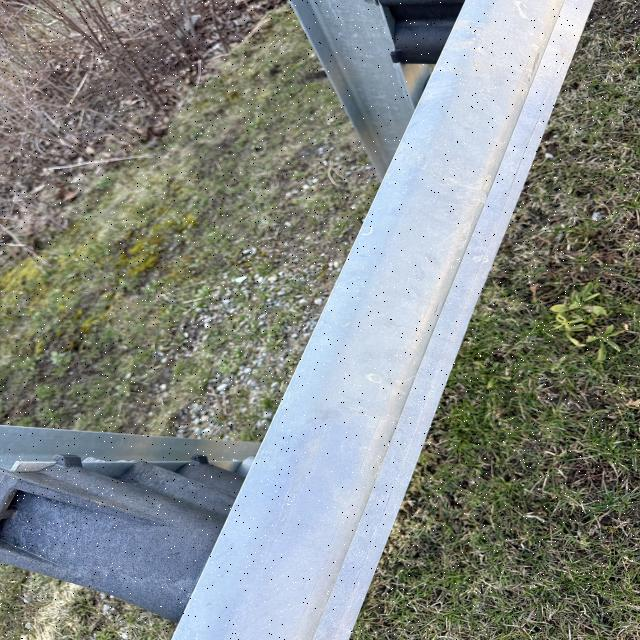Guard rail: (23, 6, 598, 594), (2, 452, 257, 613)
